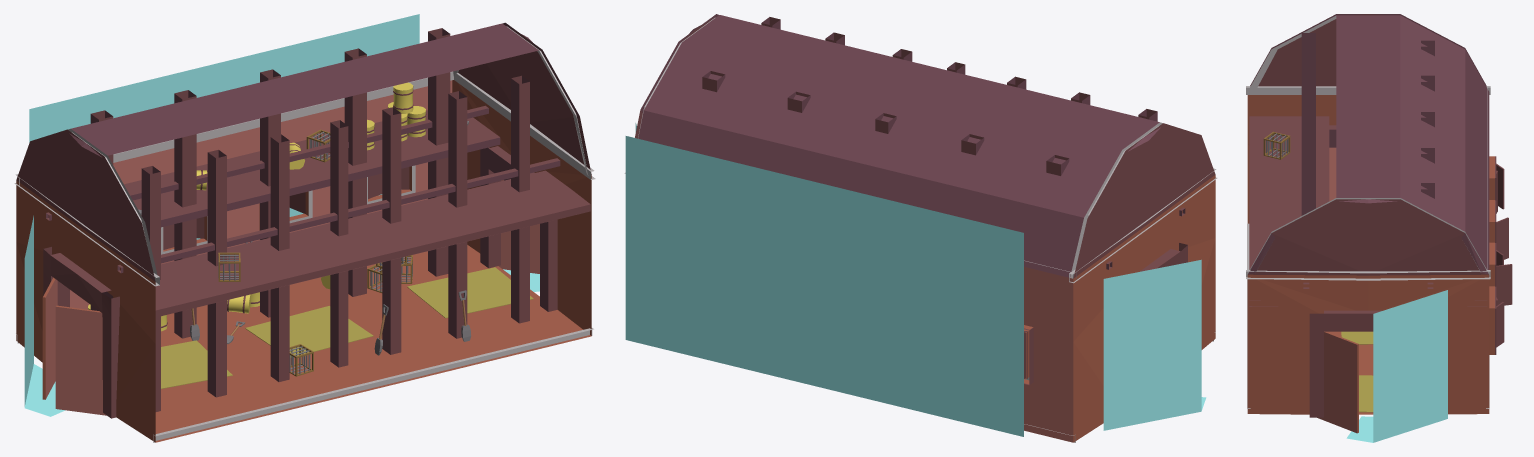
Rendered from MOD_Environment.FBX.
3 views of the same model, side by side, from view 1: azimuth 30°, elevation 25°; view 2: azimuth 150°, elevation 25°; view 3: azimuth 270°, elevation 25° (orthographic). The views are drawn at different scales.
Parts seen in each view (by area): view 1: Object004; view 2: Object004; view 3: Object004.
Part boxes in pixels (x1=…): Object004: x1=14, y1=14, x2=595, y2=442; Object004: x1=624, y1=14, x2=1217, y2=442; Object004: x1=1246, y1=14, x2=1512, y2=442.
Size of the model in its own units: 12069 by 5260 by 5952.
1 material, 1 textured.
